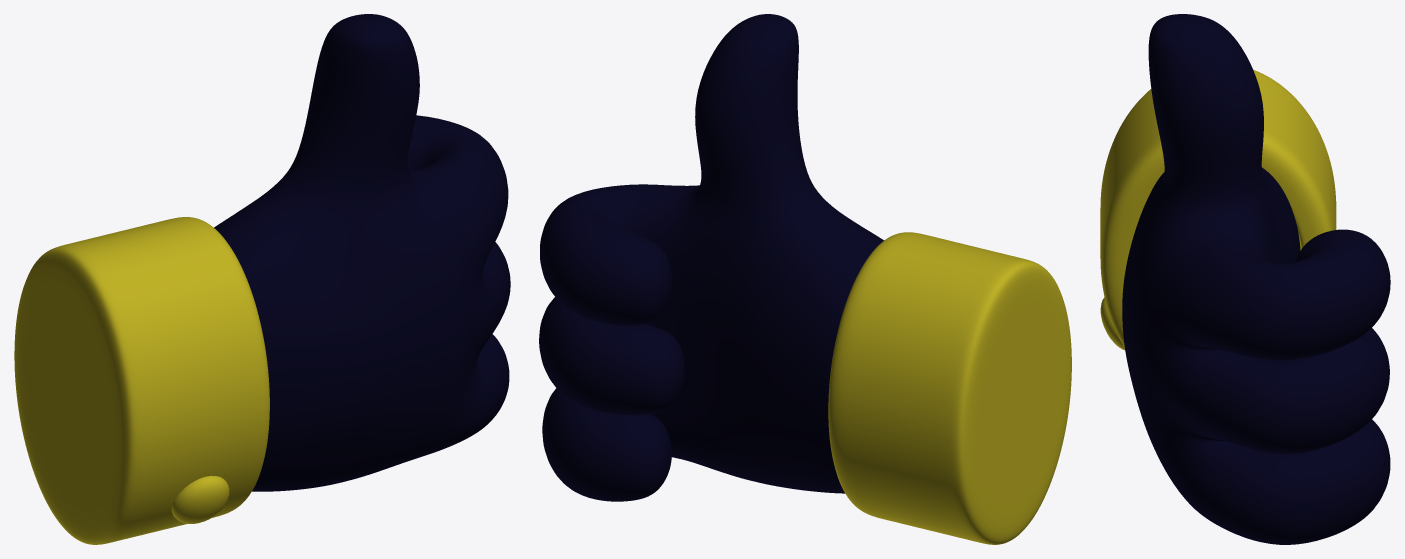
The model's file is likefin.glb.
3 views of the same model, side by side, from view 1: azimuth 30°, elevation 25°; view 2: azimuth 150°, elevation 25°; view 3: azimuth 270°, elevation 25° (orthographic). The views are drawn at different scales.
Visible parts, largest first — view 1: thumnb up; view 2: thumnb up; view 3: thumnb up.
Part boxes in pixels (x1=…): thumnb up: x1=14, y1=14, x2=510, y2=544; thumnb up: x1=539, y1=14, x2=1071, y2=544; thumnb up: x1=1100, y1=14, x2=1390, y2=544.
Bounding box in the file's own units: 1.88 × 1.81 × 1.04.
